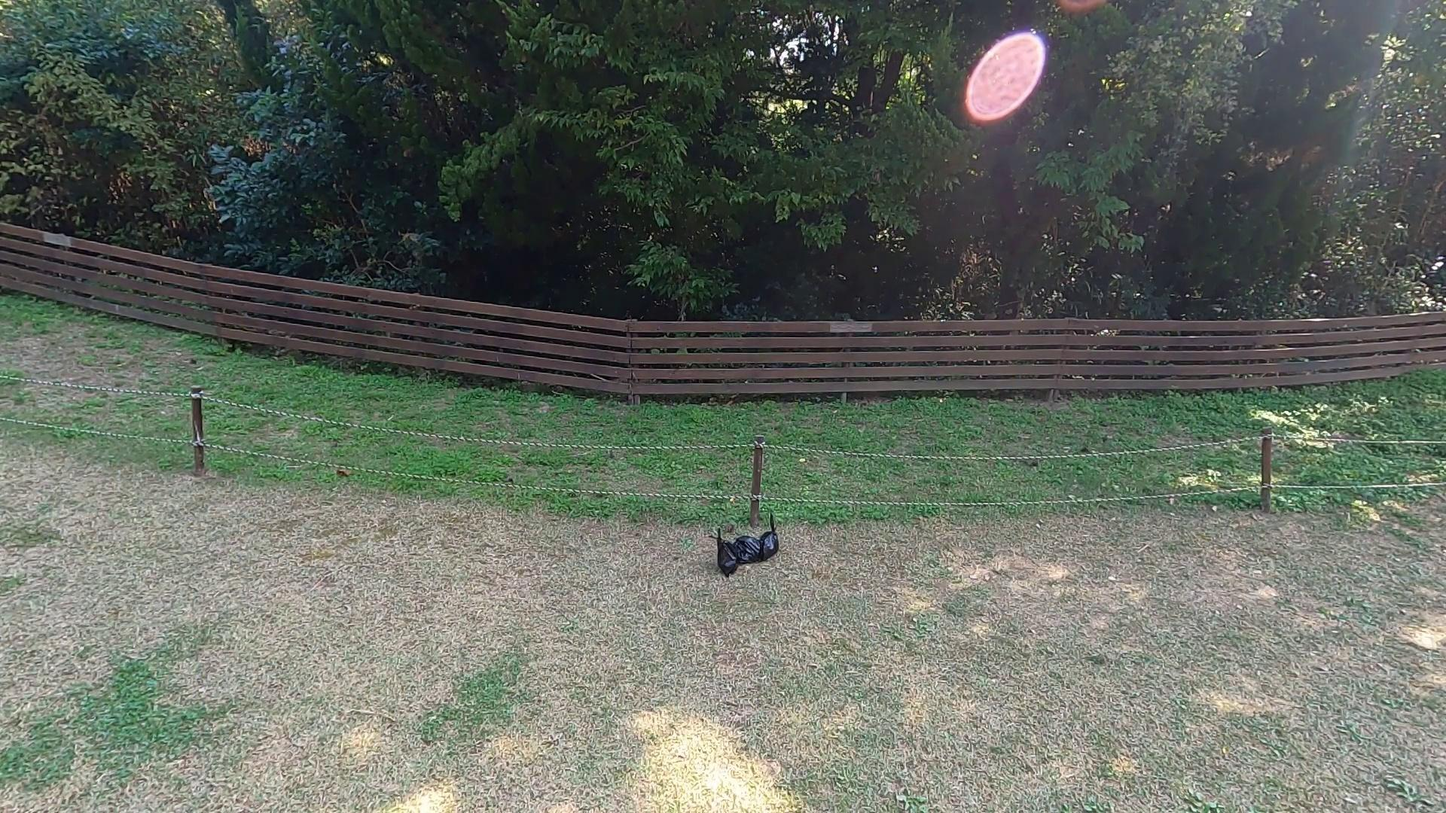trash: (715, 529, 744, 573), (732, 533, 769, 567), (761, 511, 785, 563)
